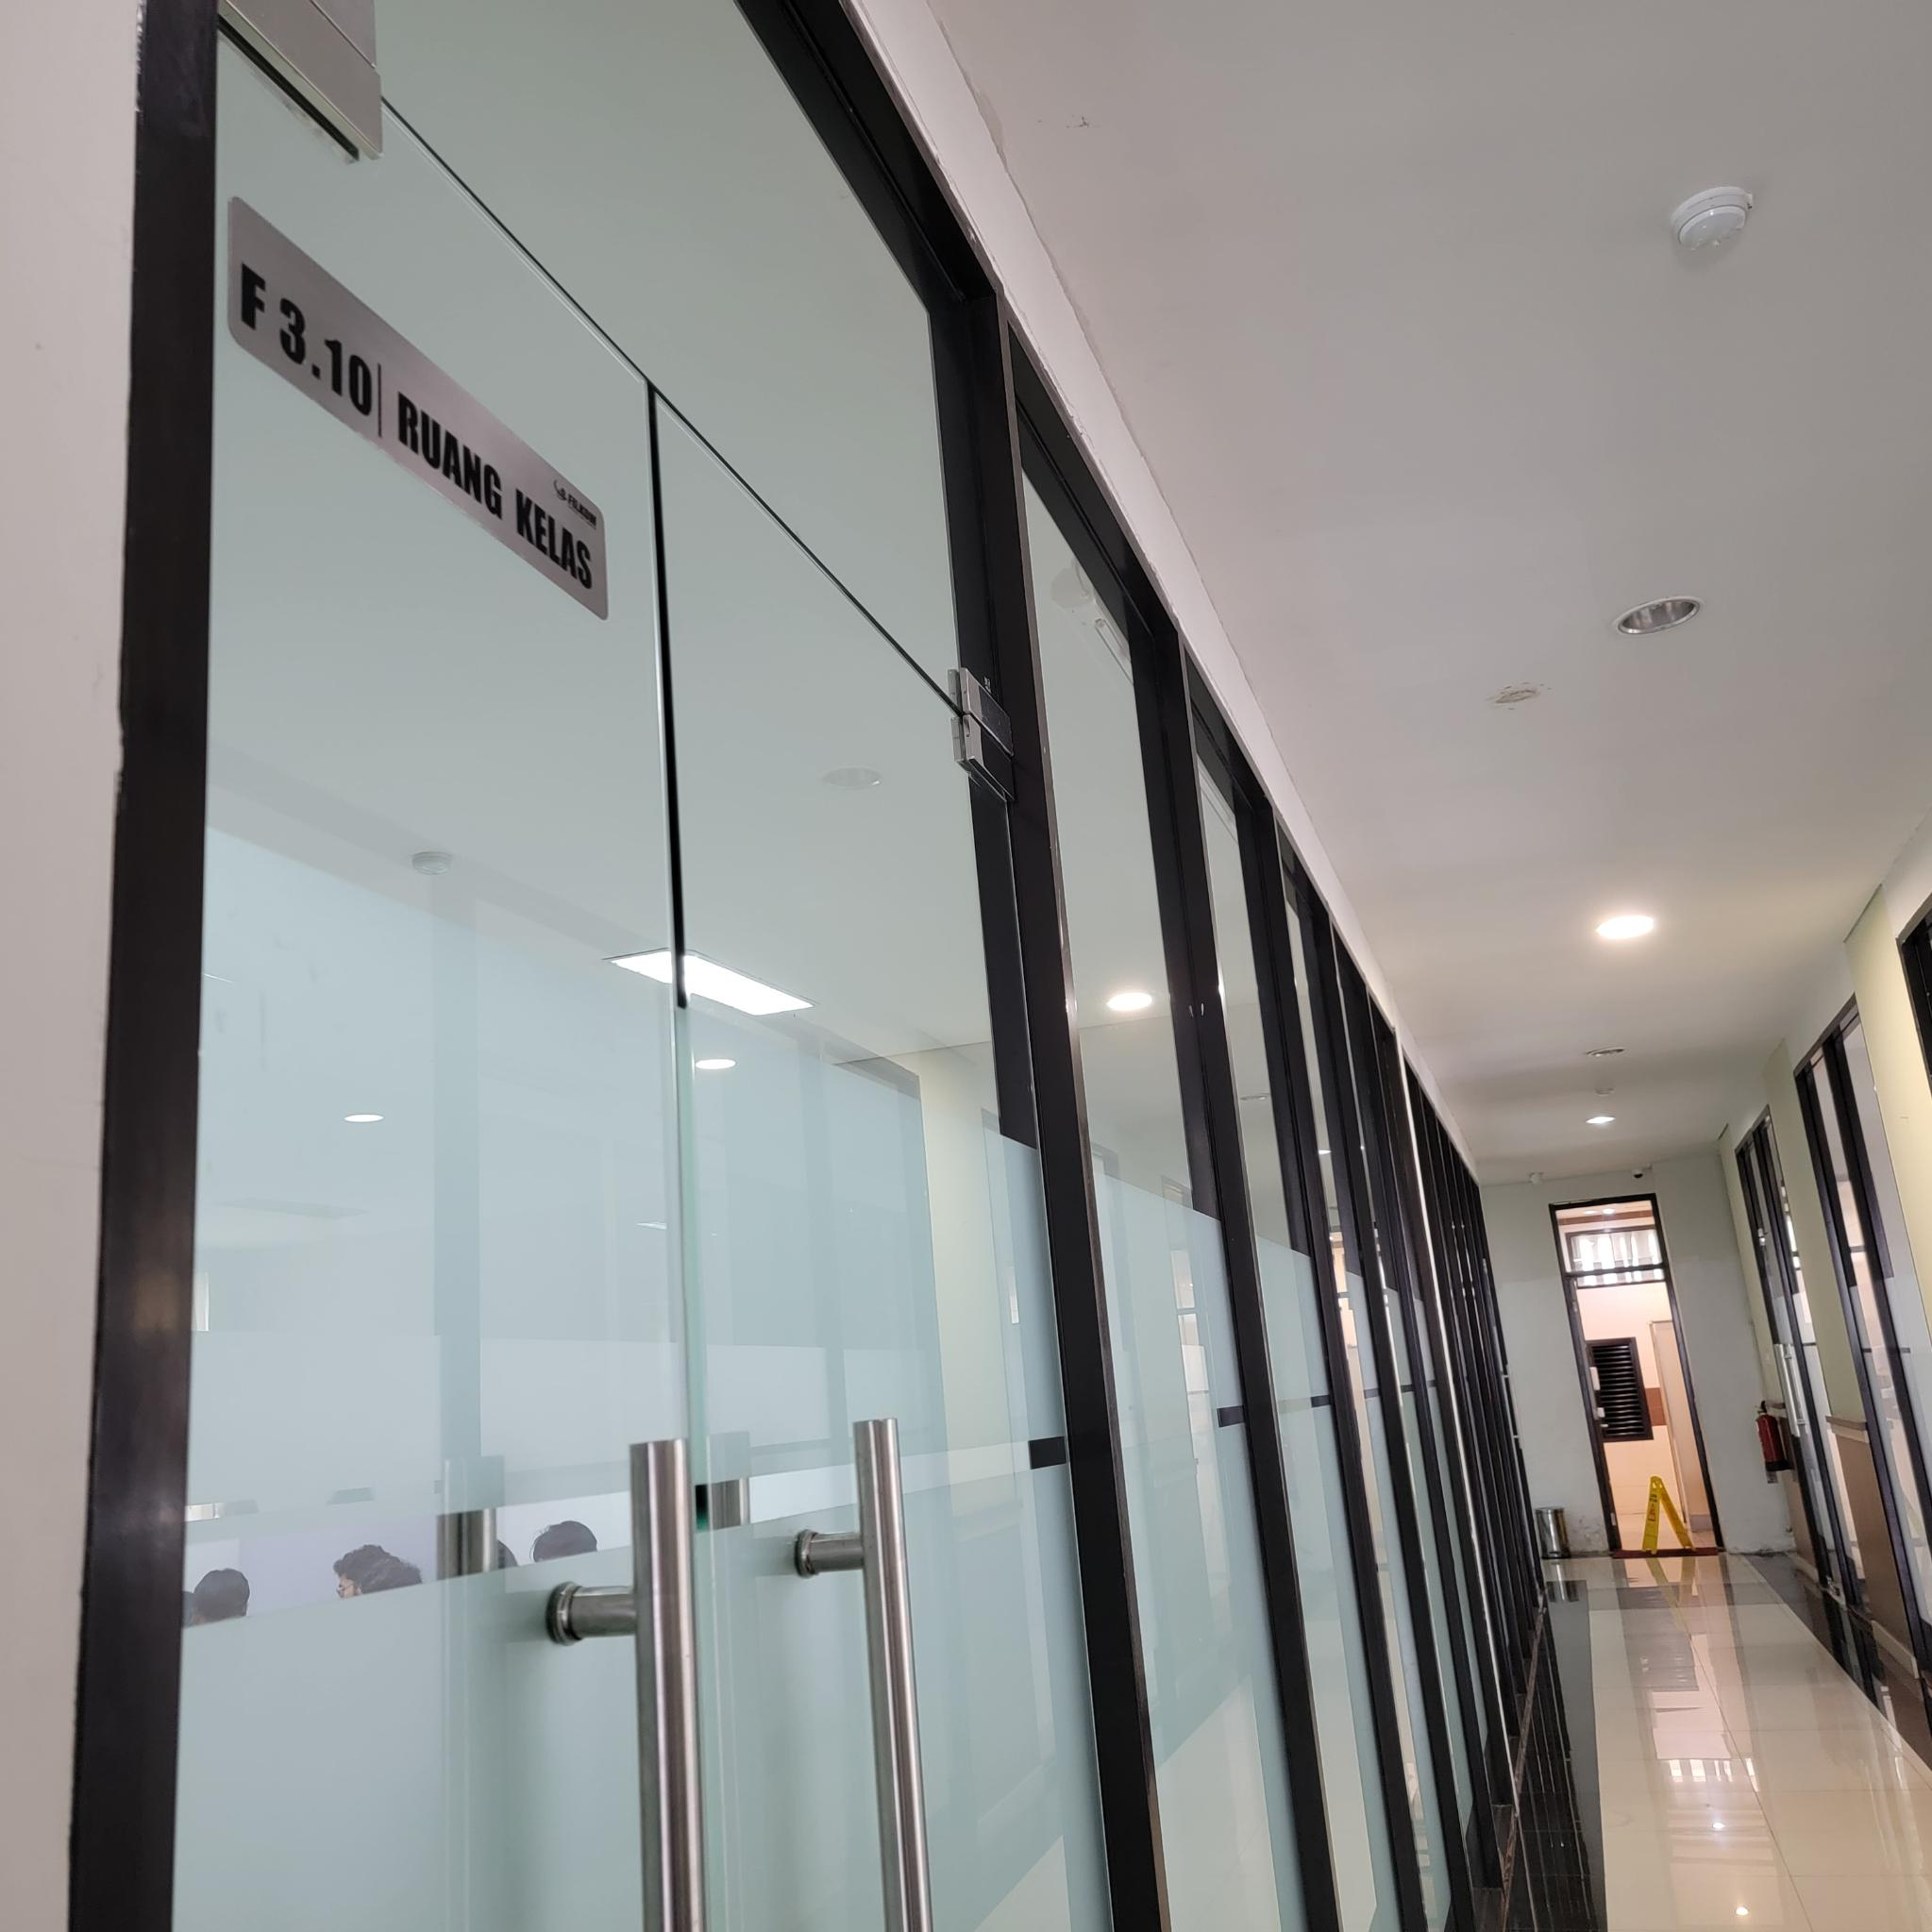plate: (228, 193, 607, 623)
